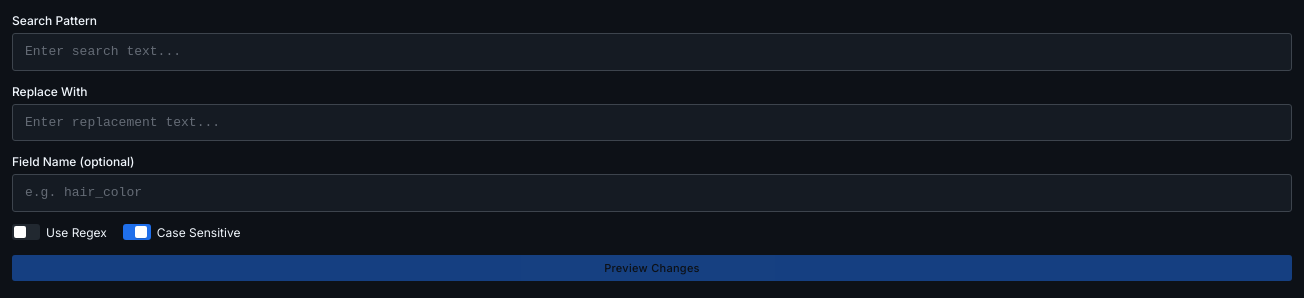
Test case: SearchReplaceForm › enables preview button when search pattern is filled
This screenshot has width=1304, height=298.
In the field with test id "search-pattern-input": [652, 52] box [12, 33, 1292, 71], type "test"
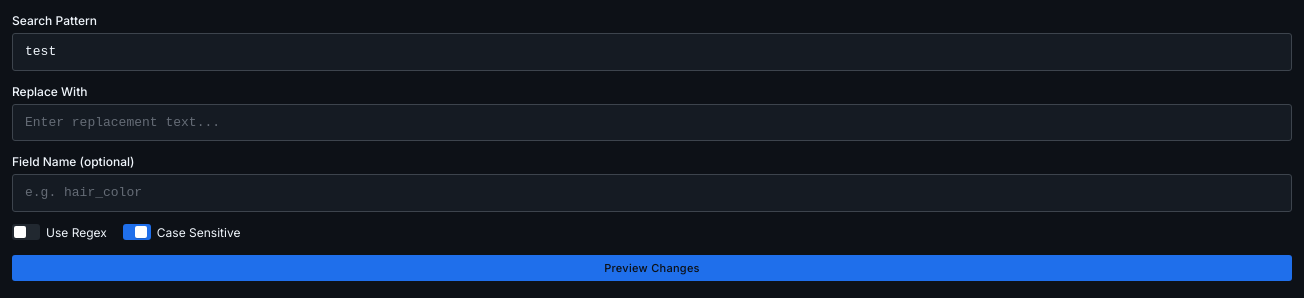
Expected: the button with test id "preview-search-replace-btn" is enabled, [12, 255, 1292, 281]
